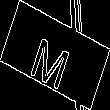M_NE: (31, 23, 79, 87)
